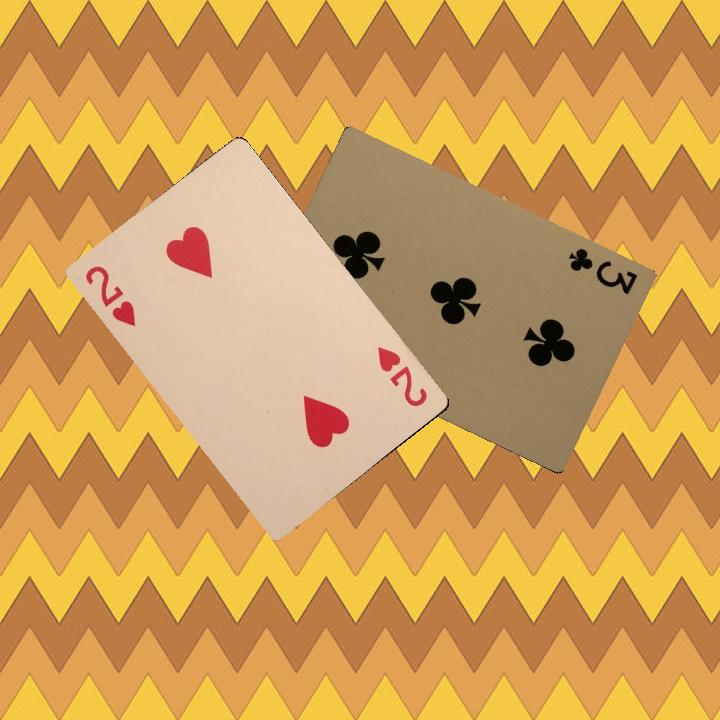2h: (81, 261, 139, 330), (373, 342, 430, 410)
3c: (564, 244, 640, 297)
